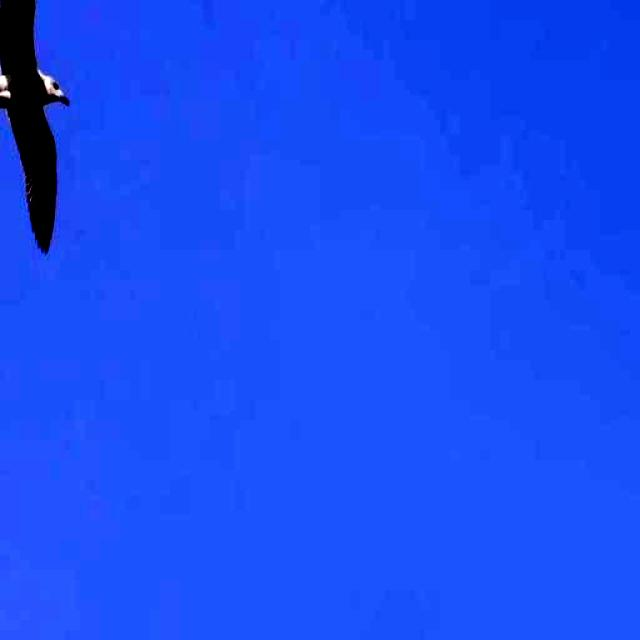airplane: (0, 0, 72, 261)
